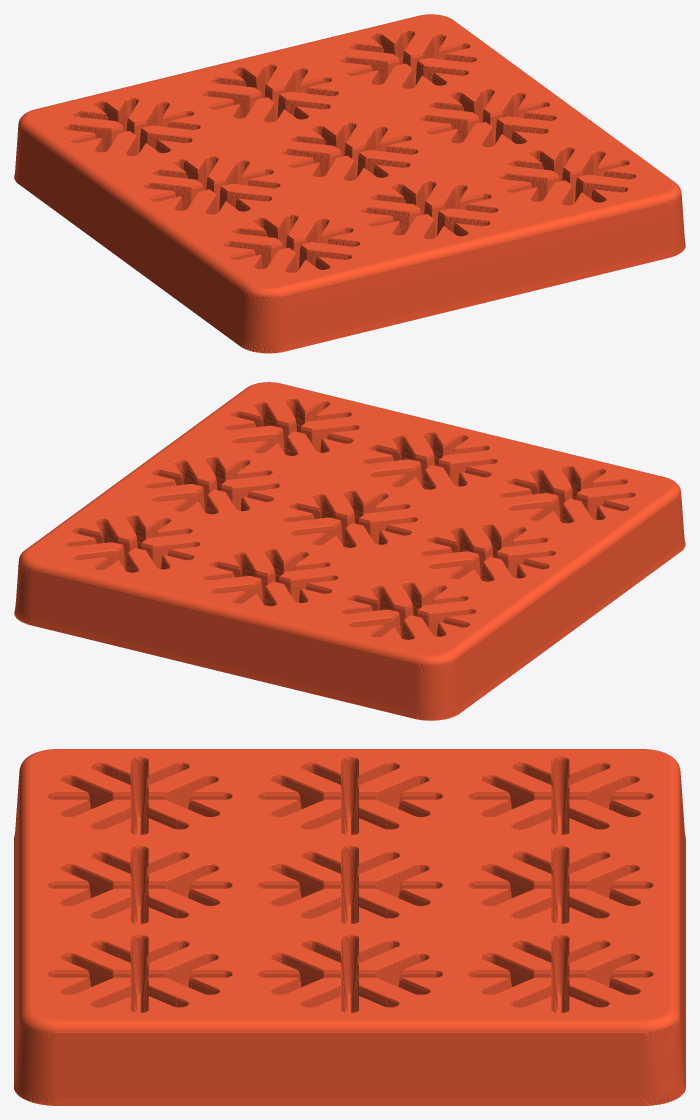
Rendered from mold.glb.
The picture shows the model from 3 angles, top to bottom: view 1: azimuth 30°, elevation 25°; view 2: azimuth 150°, elevation 25°; view 3: azimuth 270°, elevation 25°; orthographic projection. The views are drawn at different scales.
Visible parts, largest first — view 1: geometry_0; view 2: geometry_0; view 3: geometry_0.
Part boxes in pixels (<box>): geometry_0: <box>14,14,685,353</box>; geometry_0: <box>14,382,685,720</box>; geometry_0: <box>14,749,685,1105</box>.
Size of the model in its own units: 0.1402 by 0.0182 by 0.1402.
